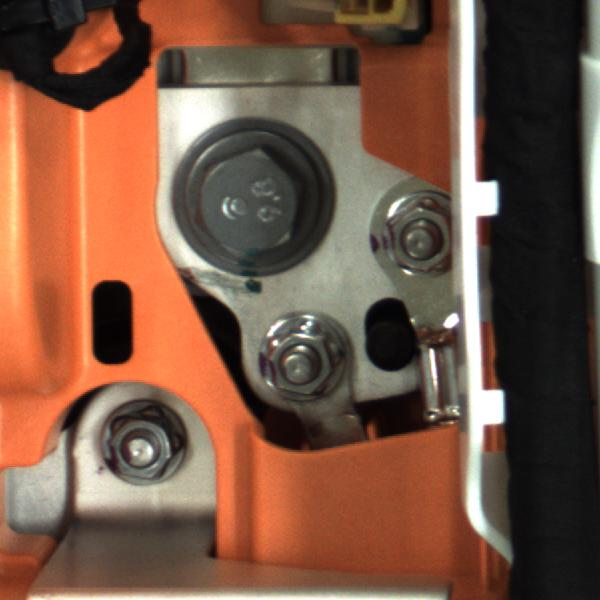screw_s: (253, 312, 353, 410), (100, 412, 192, 489), (379, 192, 455, 280)
